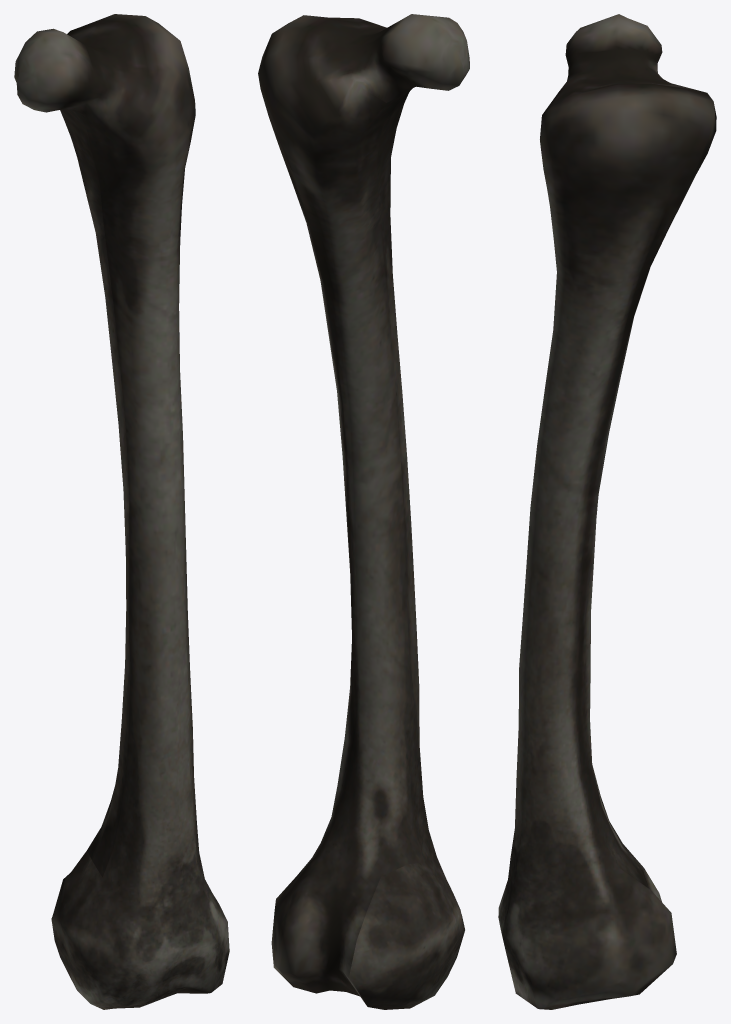
File: left_leg_0.obj
3 renders of one model, left to right at view 1: azimuth 30°, elevation 25°; view 2: azimuth 150°, elevation 25°; view 3: azimuth 270°, elevation 25°, orthographic. The views are drawn at different scales.
Visible parts, largest first — view 1: leg_1_izq_Material; view 2: leg_1_izq_Material; view 3: leg_1_izq_Material.
Boxes of the visible parts, <box> form: leg_1_izq_Material: <box>14,14,229,1009</box>; leg_1_izq_Material: <box>258,14,469,1009</box>; leg_1_izq_Material: <box>498,14,716,1009</box>.
Size of the model in its own units: 0.0706 by 0.3624 by 0.0759.
